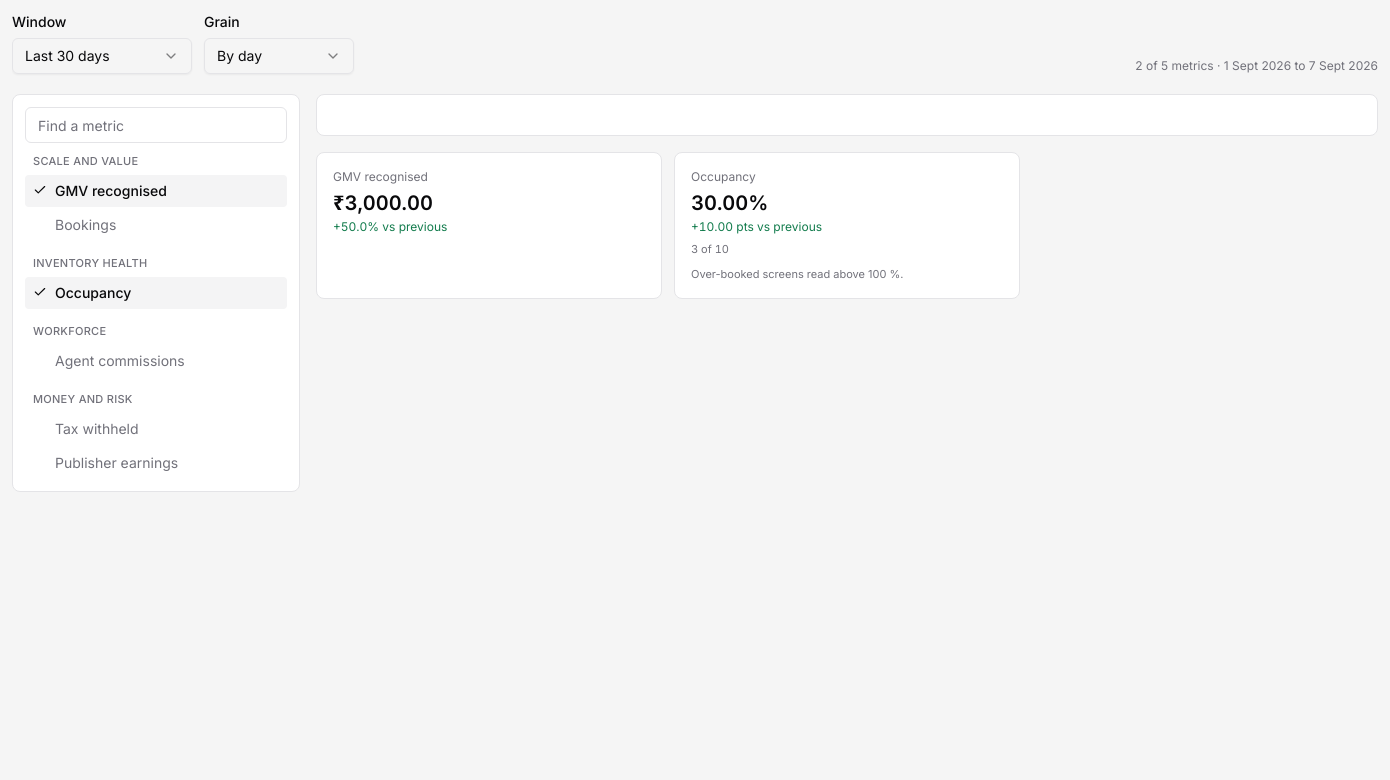
Test: choosing metrics › narrows the list by name
Step 1. Type "occupancy" into the field with test id "explore-search" → (156, 125), box [25,107,287,143]
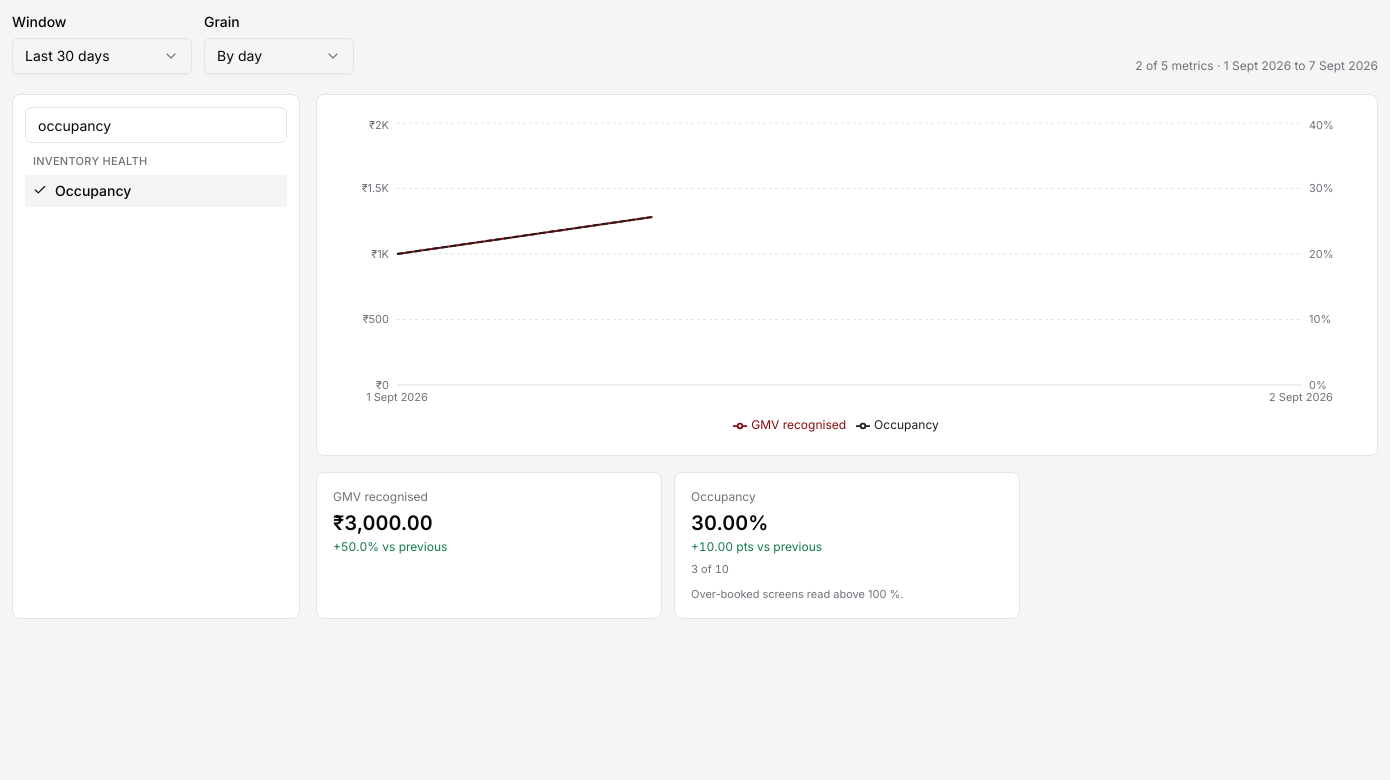
Expected: the text "Occupancy" below "Inventory health" is shown, [55,182,131,199]
Now the button "Bookings" is gone
